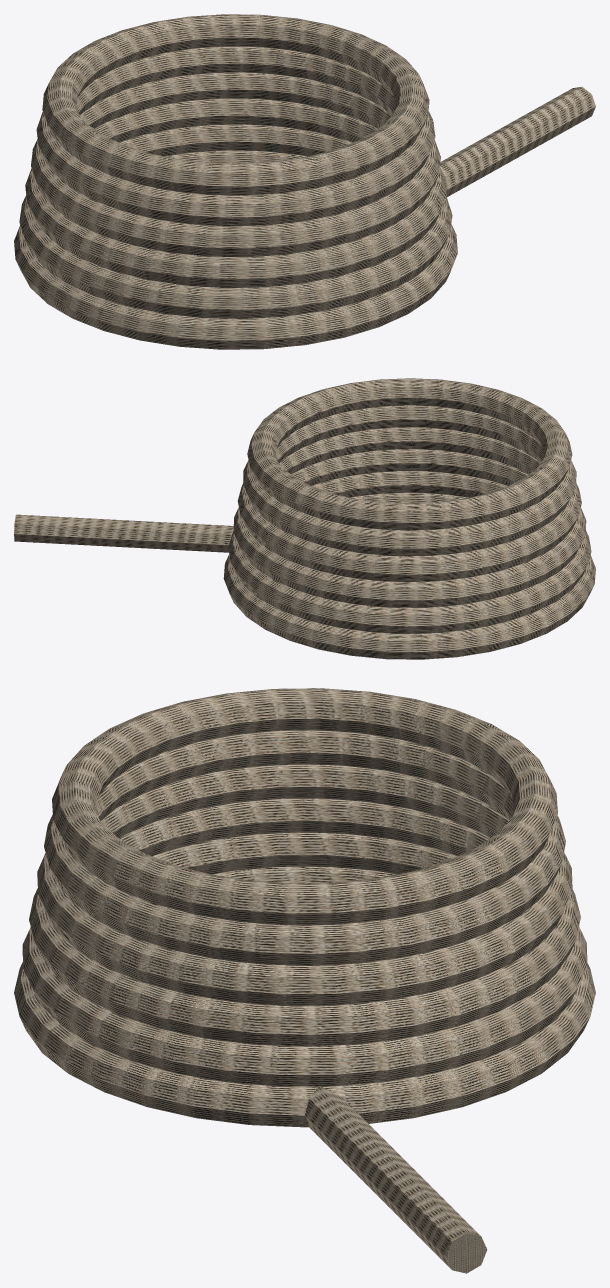
File: coiled-rope-v01.glb
The picture shows the model from 3 angles, top to bottom: view 1: azimuth 30°, elevation 25°; view 2: azimuth 150°, elevation 25°; view 3: azimuth 270°, elevation 25°; orthographic projection. The views are drawn at different scales.
Parts seen in each view (by area): view 1: coiled-rope; view 2: coiled-rope; view 3: coiled-rope.
Boxes of the visible parts, left/top/right/bottom form: coiled-rope: left=14, top=14, right=595, bottom=349; coiled-rope: left=14, top=378, right=595, bottom=659; coiled-rope: left=14, top=688, right=595, bottom=1273.
Size of the model in its own units: 1.23 by 0.335 by 0.78.
Materials: 1 (1 with a texture image).
